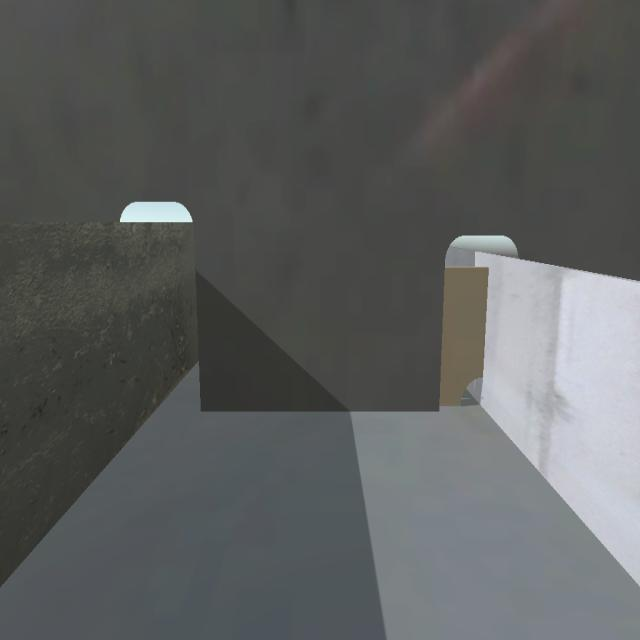fillet_hole: (458, 381, 484, 410)
fillet_yong_jeop_jang: (198, 406, 462, 413)
longi_yong_jeop_jang: (484, 276, 503, 414), (487, 622, 488, 623)
plate_behind: (444, 269, 491, 413)
